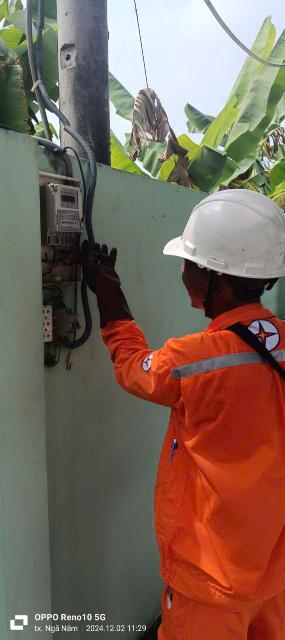gloves: (60, 233, 139, 332)
helmet: (165, 180, 285, 298)
